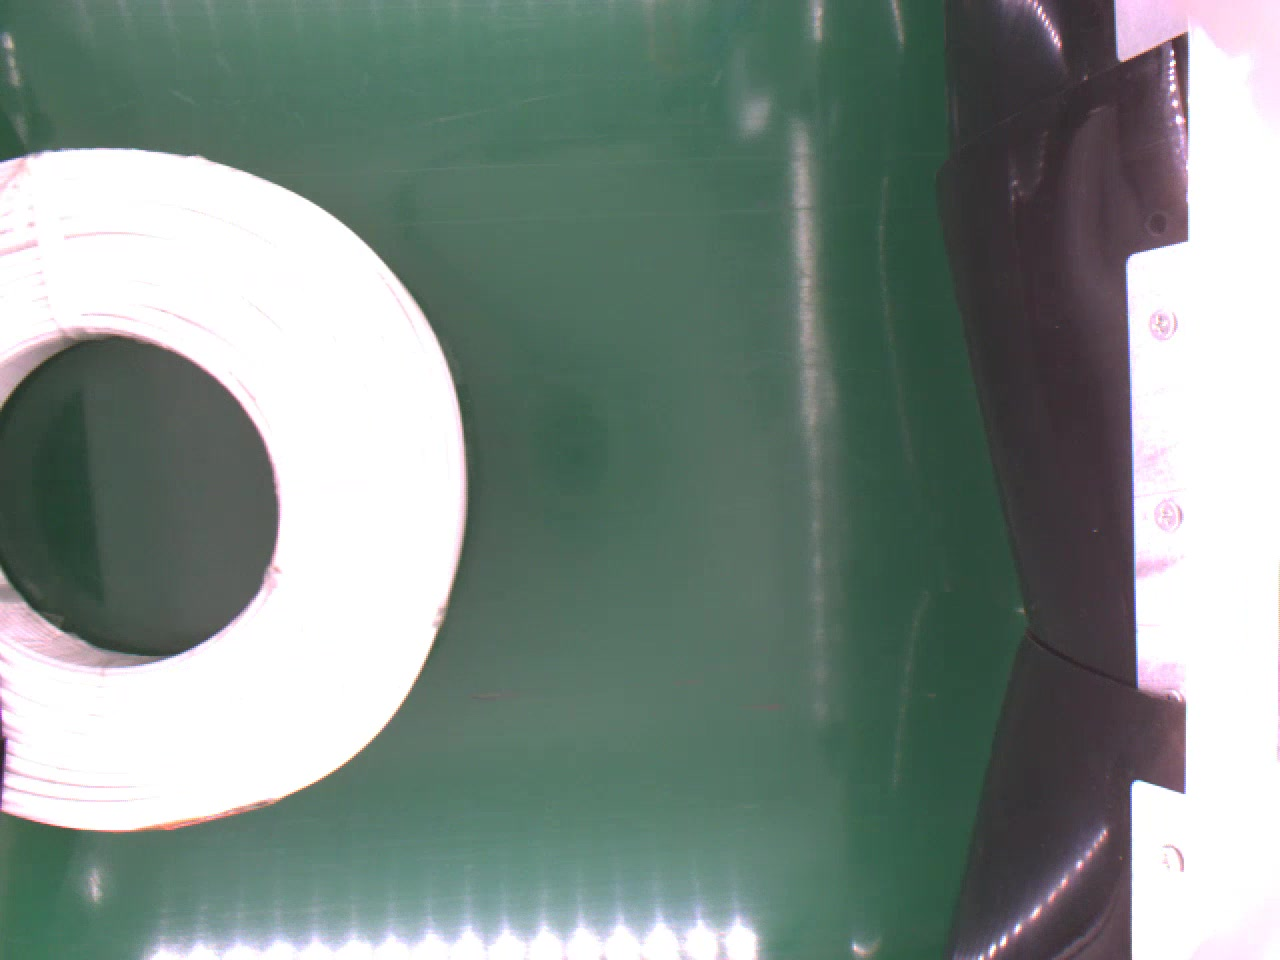white: (0, 142, 470, 834)
